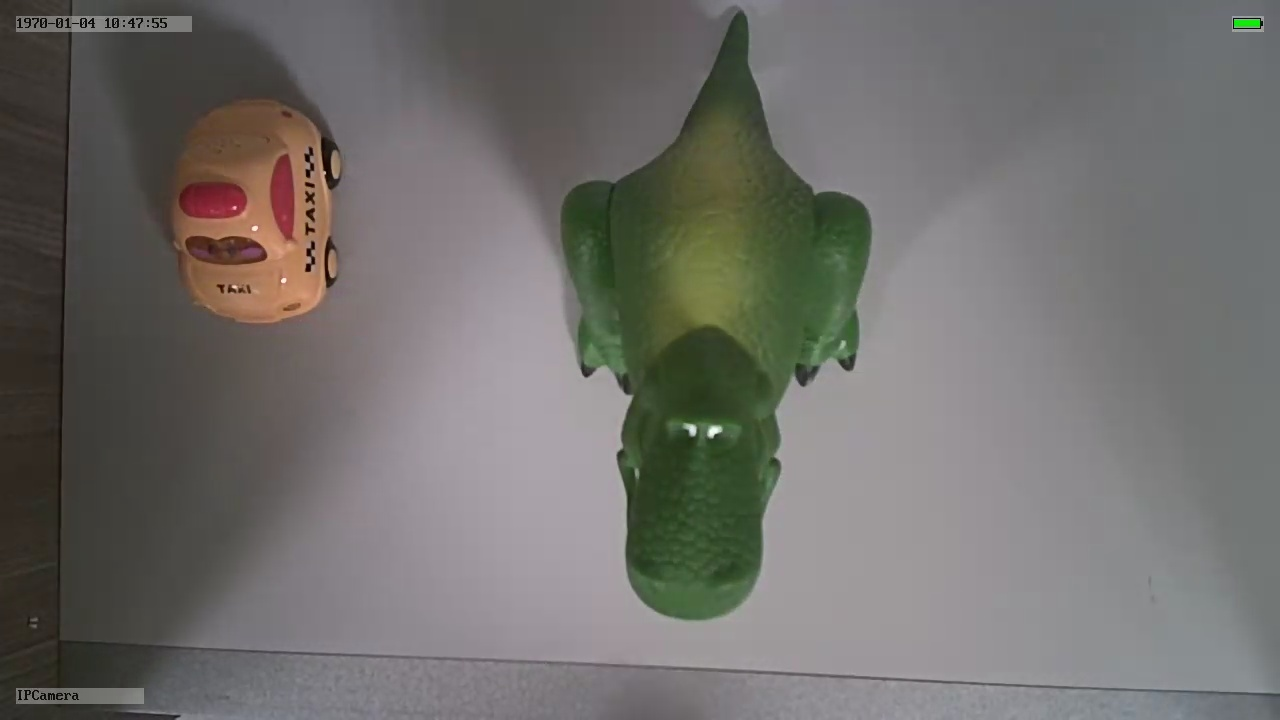car: (169, 92, 344, 326)
rex: (559, 71, 877, 620)
